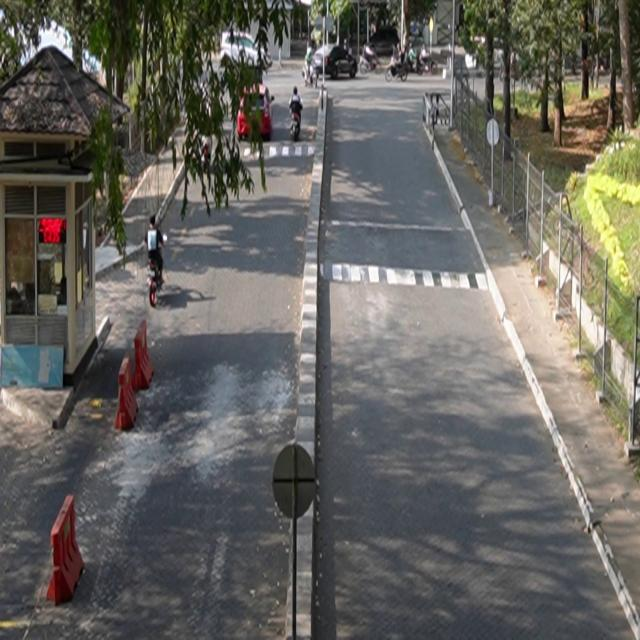car: (238, 84, 275, 141), (222, 32, 274, 70), (314, 45, 359, 80)
